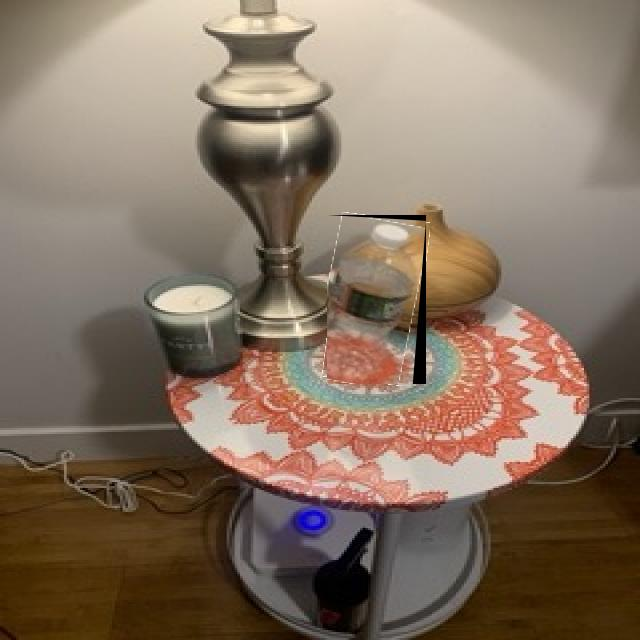water_bottle: (327, 215, 426, 384)
